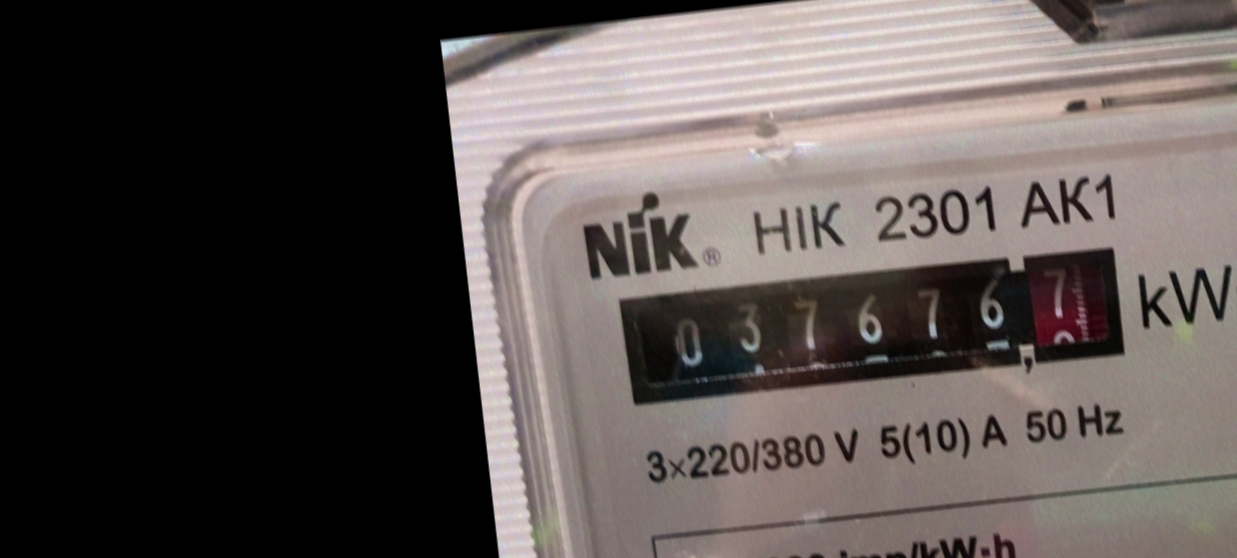0: (670, 311, 710, 369)
3: (732, 296, 766, 356)
6: (850, 288, 888, 345), (973, 273, 1009, 331)
7: (912, 282, 950, 344), (790, 293, 827, 352), (1040, 262, 1074, 321)
screen: (602, 224, 1144, 429)
